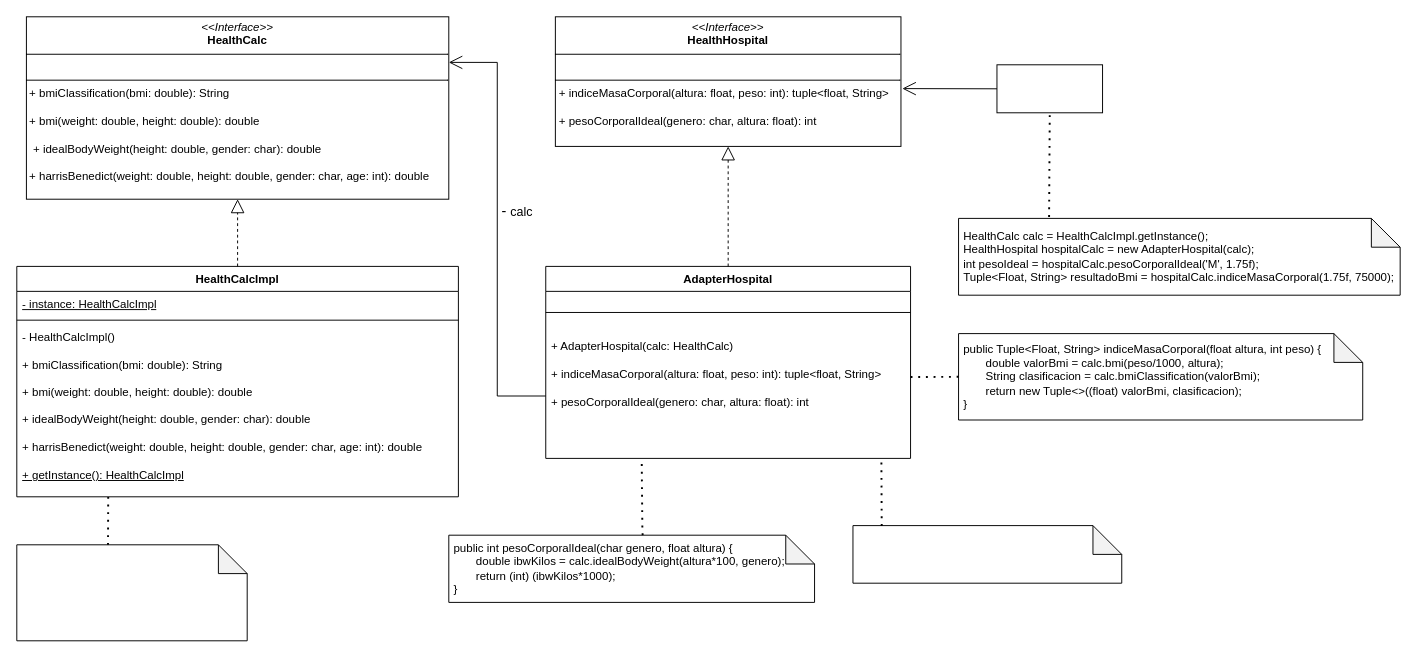
Image size: 1417x658. Some labels were removed from this diagram. The shapes that lost their labels are listed below. From the top down, each one's box as (x1, y1, x2, y2) in pixels, then its label:
(996, 64, 1103, 113): Main
(852, 525, 1122, 583): public AdapterHospital (HealthCalc calc) { this .calc = calc; }
(16, 544, 247, 641): if (instance == null ) { instance = new HealthCalcImpl(); } return instance;
